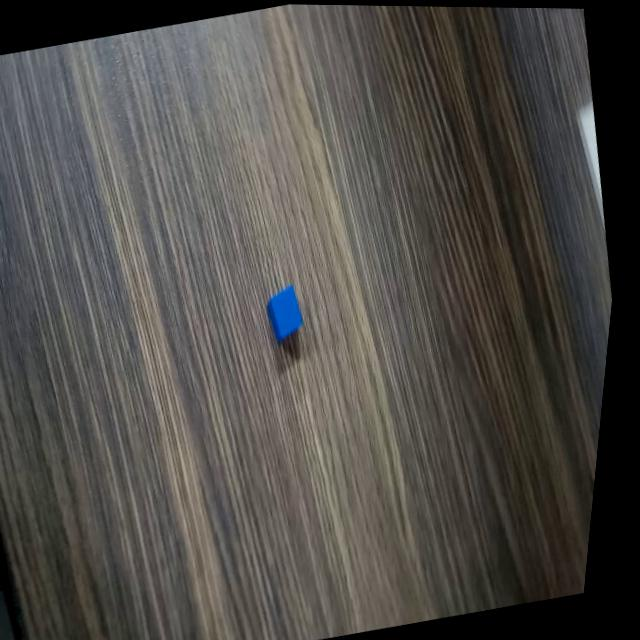cube: (262, 278, 319, 347)
